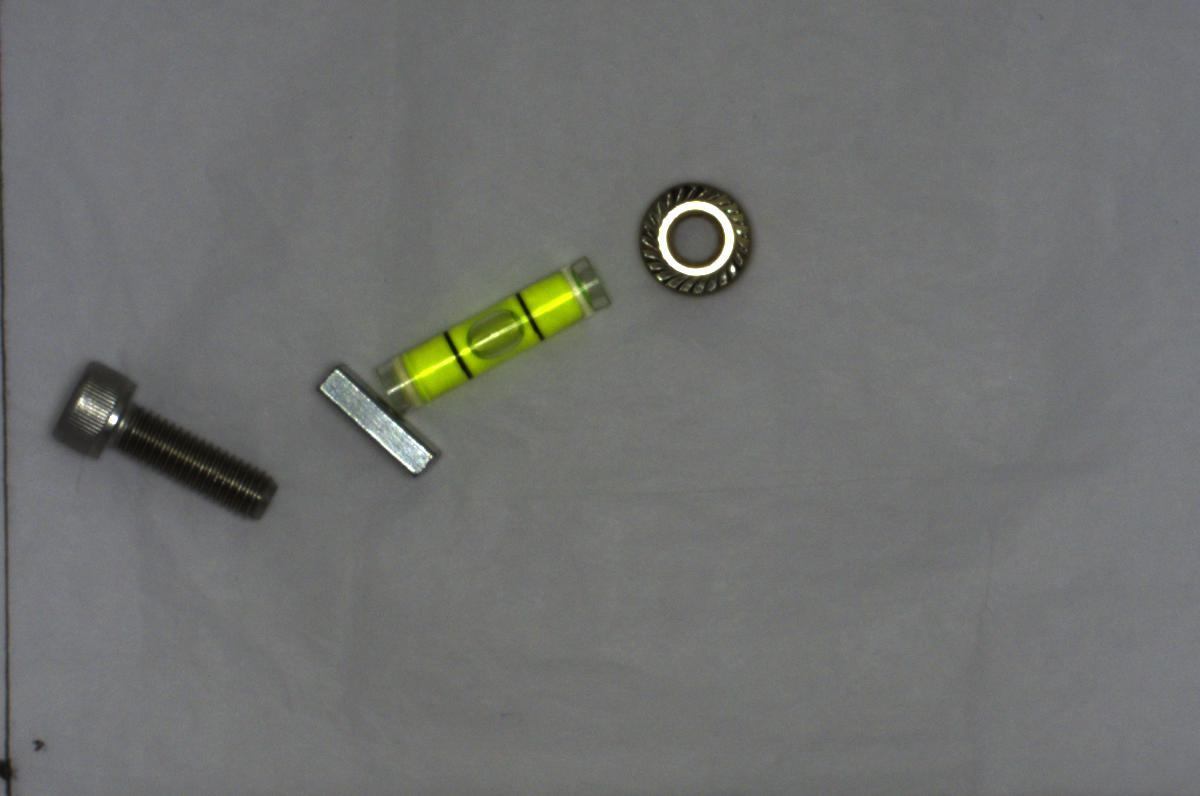Flange nut: (627, 169, 770, 309)
Hexagon screw: (46, 361, 277, 529)
Horizontal bubble: (366, 256, 611, 409)
Rectangular nut: (310, 365, 441, 482)
